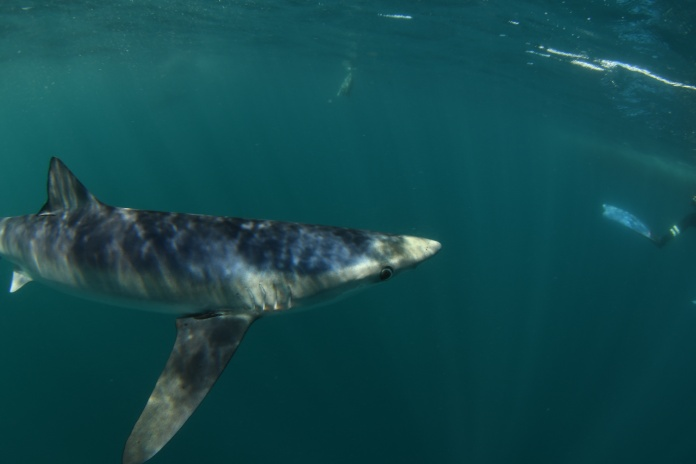Azul: (5, 137, 490, 464)
